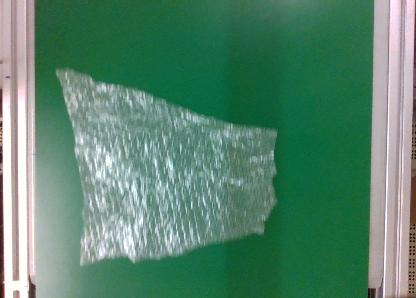Others: (56, 68, 278, 272)
